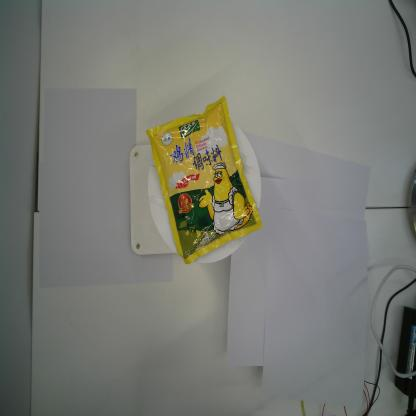Seasoner: (144, 94, 262, 265)
